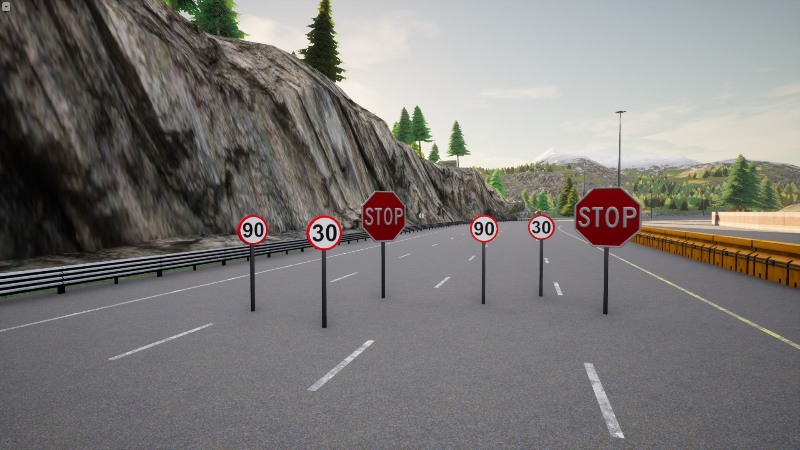fast: (236, 215, 269, 246), (469, 215, 500, 242)
slow: (306, 215, 342, 251), (527, 214, 555, 241)
stop: (573, 187, 642, 247), (362, 190, 406, 242)
